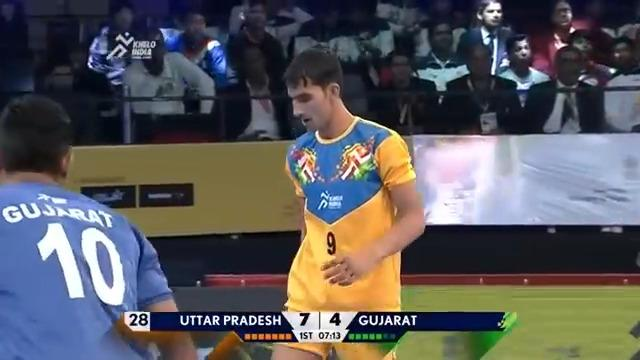Raider: (268, 45, 426, 358)
referee: (0, 93, 199, 359)
